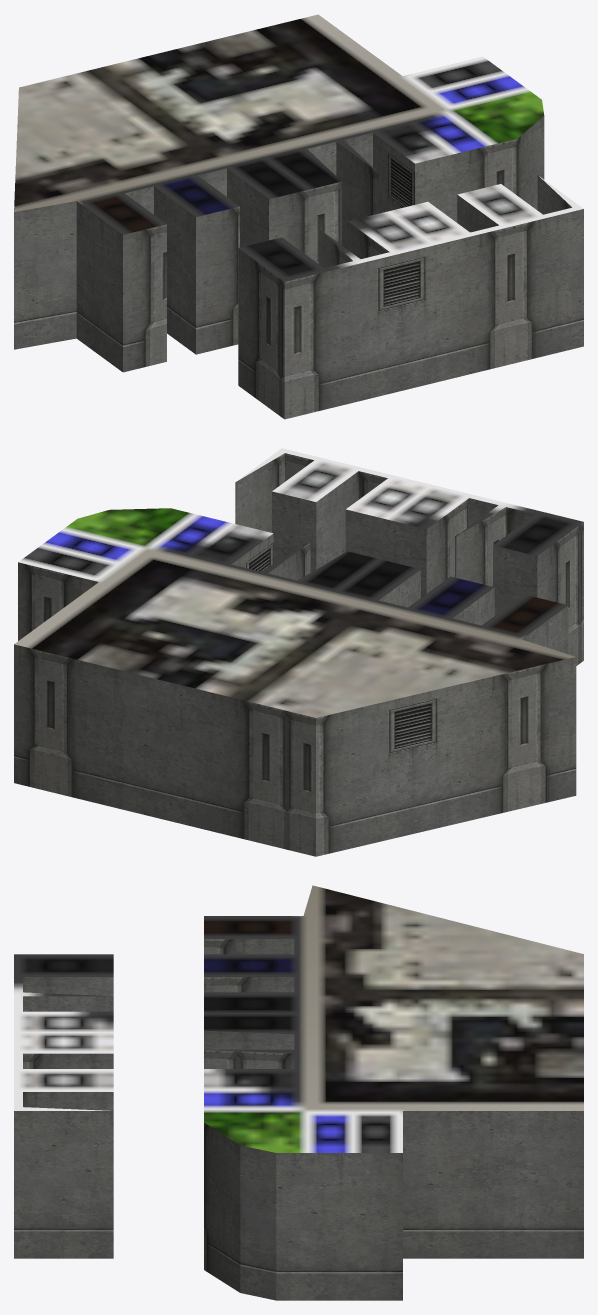
Rendered from BuildingSystem-03-Advance-04-ReinforcedLow-G-099-04.glb.
3 renders of one model, top to bottom at view 1: azimuth 30°, elevation 25°; view 2: azimuth 150°, elevation 25°; view 3: azimuth 270°, elevation 25°, orthographic. The views are drawn at different scales.
Parts seen in each view (by area): view 1: buildings/saxarba/SMV_Buildings/BuildingSystem-03-Advance-04; view 2: buildings/saxarba/SMV_Buildings/BuildingSystem-03-Advance-04; view 3: buildings/saxarba/SMV_Buildings/BuildingSystem-03-Advance-04.
Part boxes in pixels (<box>): buildings/saxarba/SMV_Buildings/BuildingSystem-03-Advance-04: <box>14,14,583,419</box>; buildings/saxarba/SMV_Buildings/BuildingSystem-03-Advance-04: <box>14,448,583,856</box>; buildings/saxarba/SMV_Buildings/BuildingSystem-03-Advance-04: <box>14,885,583,1300</box>.
Size of the model in its own units: 70 by 18 by 63.
